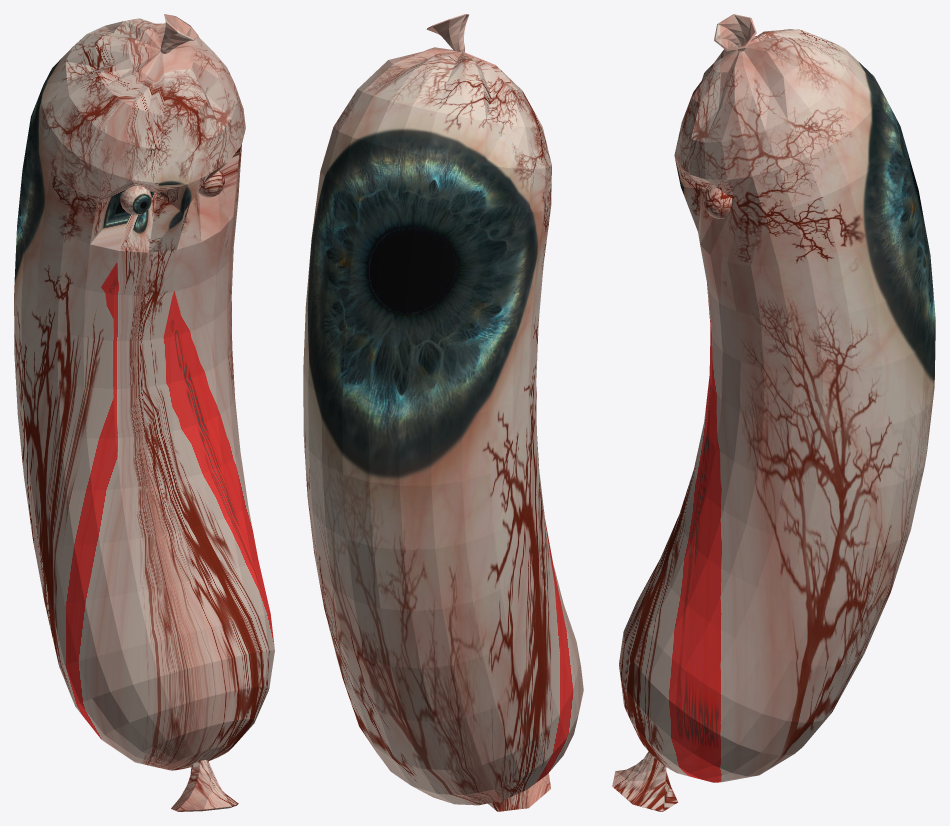
The model's file is Sausage Man.fbx.
3 views of the same model, side by side, from view 1: azimuth 30°, elevation 25°; view 2: azimuth 150°, elevation 25°; view 3: azimuth 270°, elevation 25° (orthographic). The views are drawn at different scales.
Visible parts, largest first — view 1: Sphere; view 2: Sphere; view 3: Sphere.
Boxes of the visible parts, x1,y1,x2,y2 form: Sphere: [14, 14, 274, 811]; Sphere: [303, 14, 583, 811]; Sphere: [612, 14, 935, 811].
Bounding box in the file's own units: 99.53 × 386 × 143.
1 material, 1 textured.
